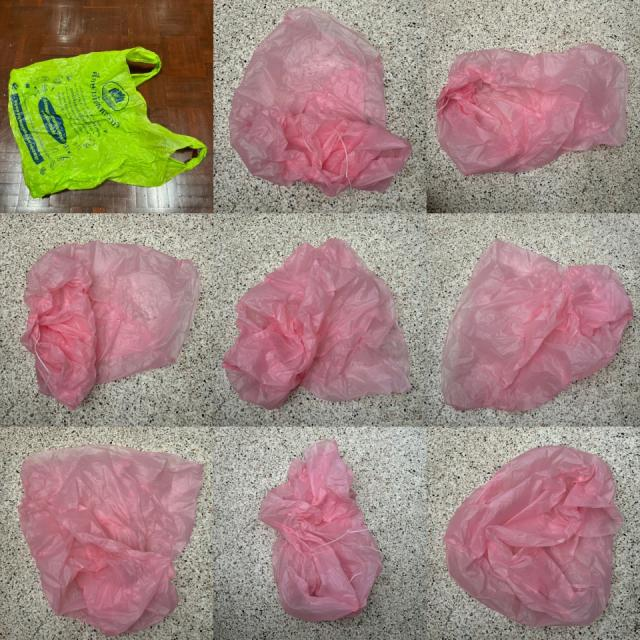Single-layer Plastic: (19, 445, 204, 635), (230, 8, 411, 196), (441, 239, 632, 411), (222, 239, 411, 409), (445, 446, 622, 626), (21, 241, 200, 409), (6, 48, 206, 198), (436, 44, 629, 175), (259, 439, 381, 621)
